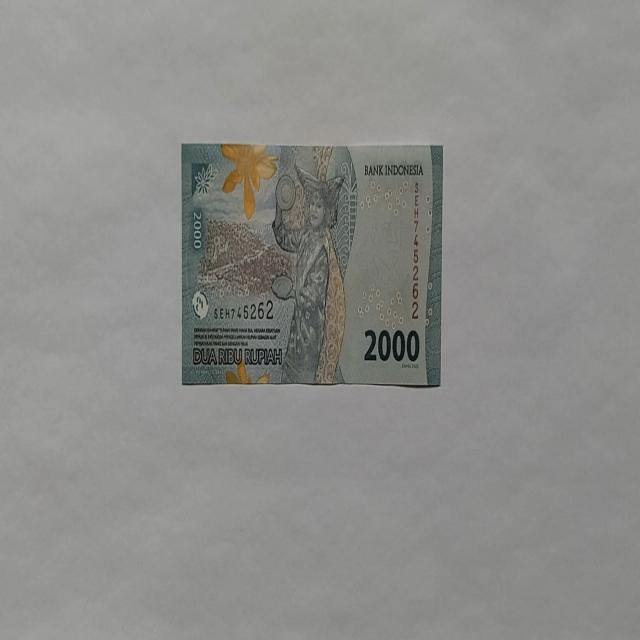dua ribu rupiah: (180, 142, 444, 388), (270, 162, 348, 384)
